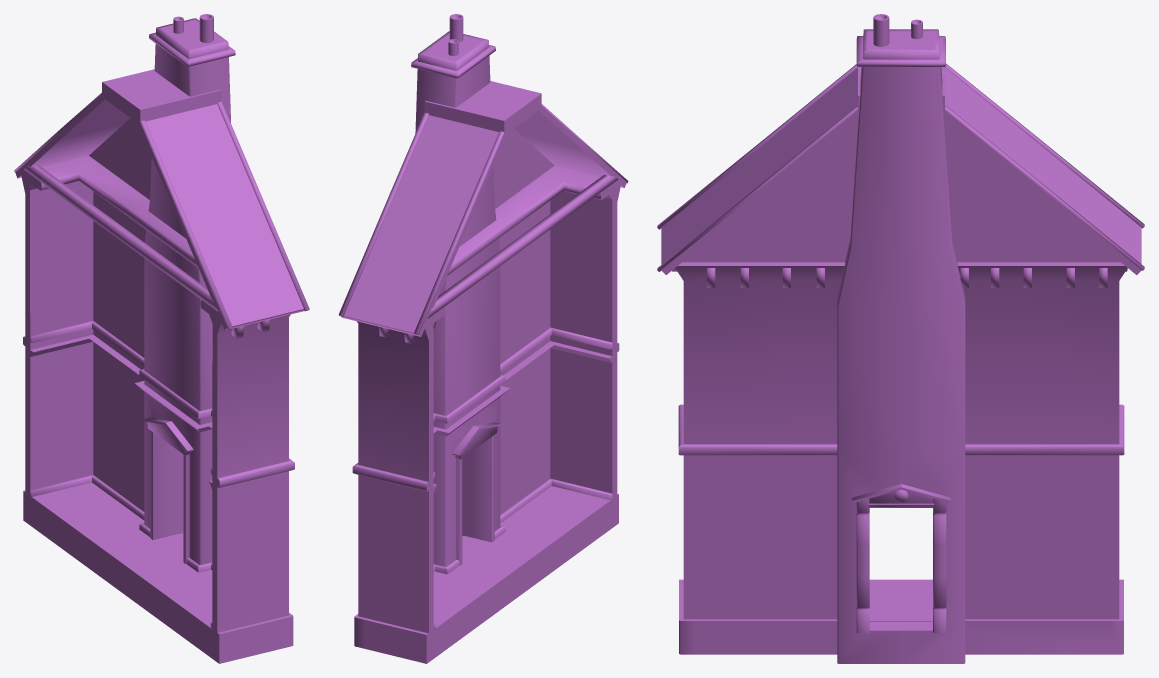
The model's file is BrickHouse_End_B.fbx.
The picture shows the model from 3 angles, left to right: view 1: azimuth 30°, elevation 25°; view 2: azimuth 150°, elevation 25°; view 3: azimuth 270°, elevation 25°; orthographic projection. The views are drawn at different scales.
Visible parts, largest first — view 1: BrickHouse_End_B; view 2: BrickHouse_End_B; view 3: BrickHouse_End_B.
Boxes of the visible parts, x1,y1,x2,y2 form: BrickHouse_End_B: (14,14,309,663); BrickHouse_End_B: (338,14,628,663); BrickHouse_End_B: (657,14,1144,663).
Size of the model in its own units: 3.39 by 18.75 by 12.98.
